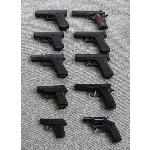Pistol: (73, 82, 116, 110), (82, 116, 122, 142), (74, 53, 112, 79), (36, 84, 68, 110), (38, 118, 66, 138)
